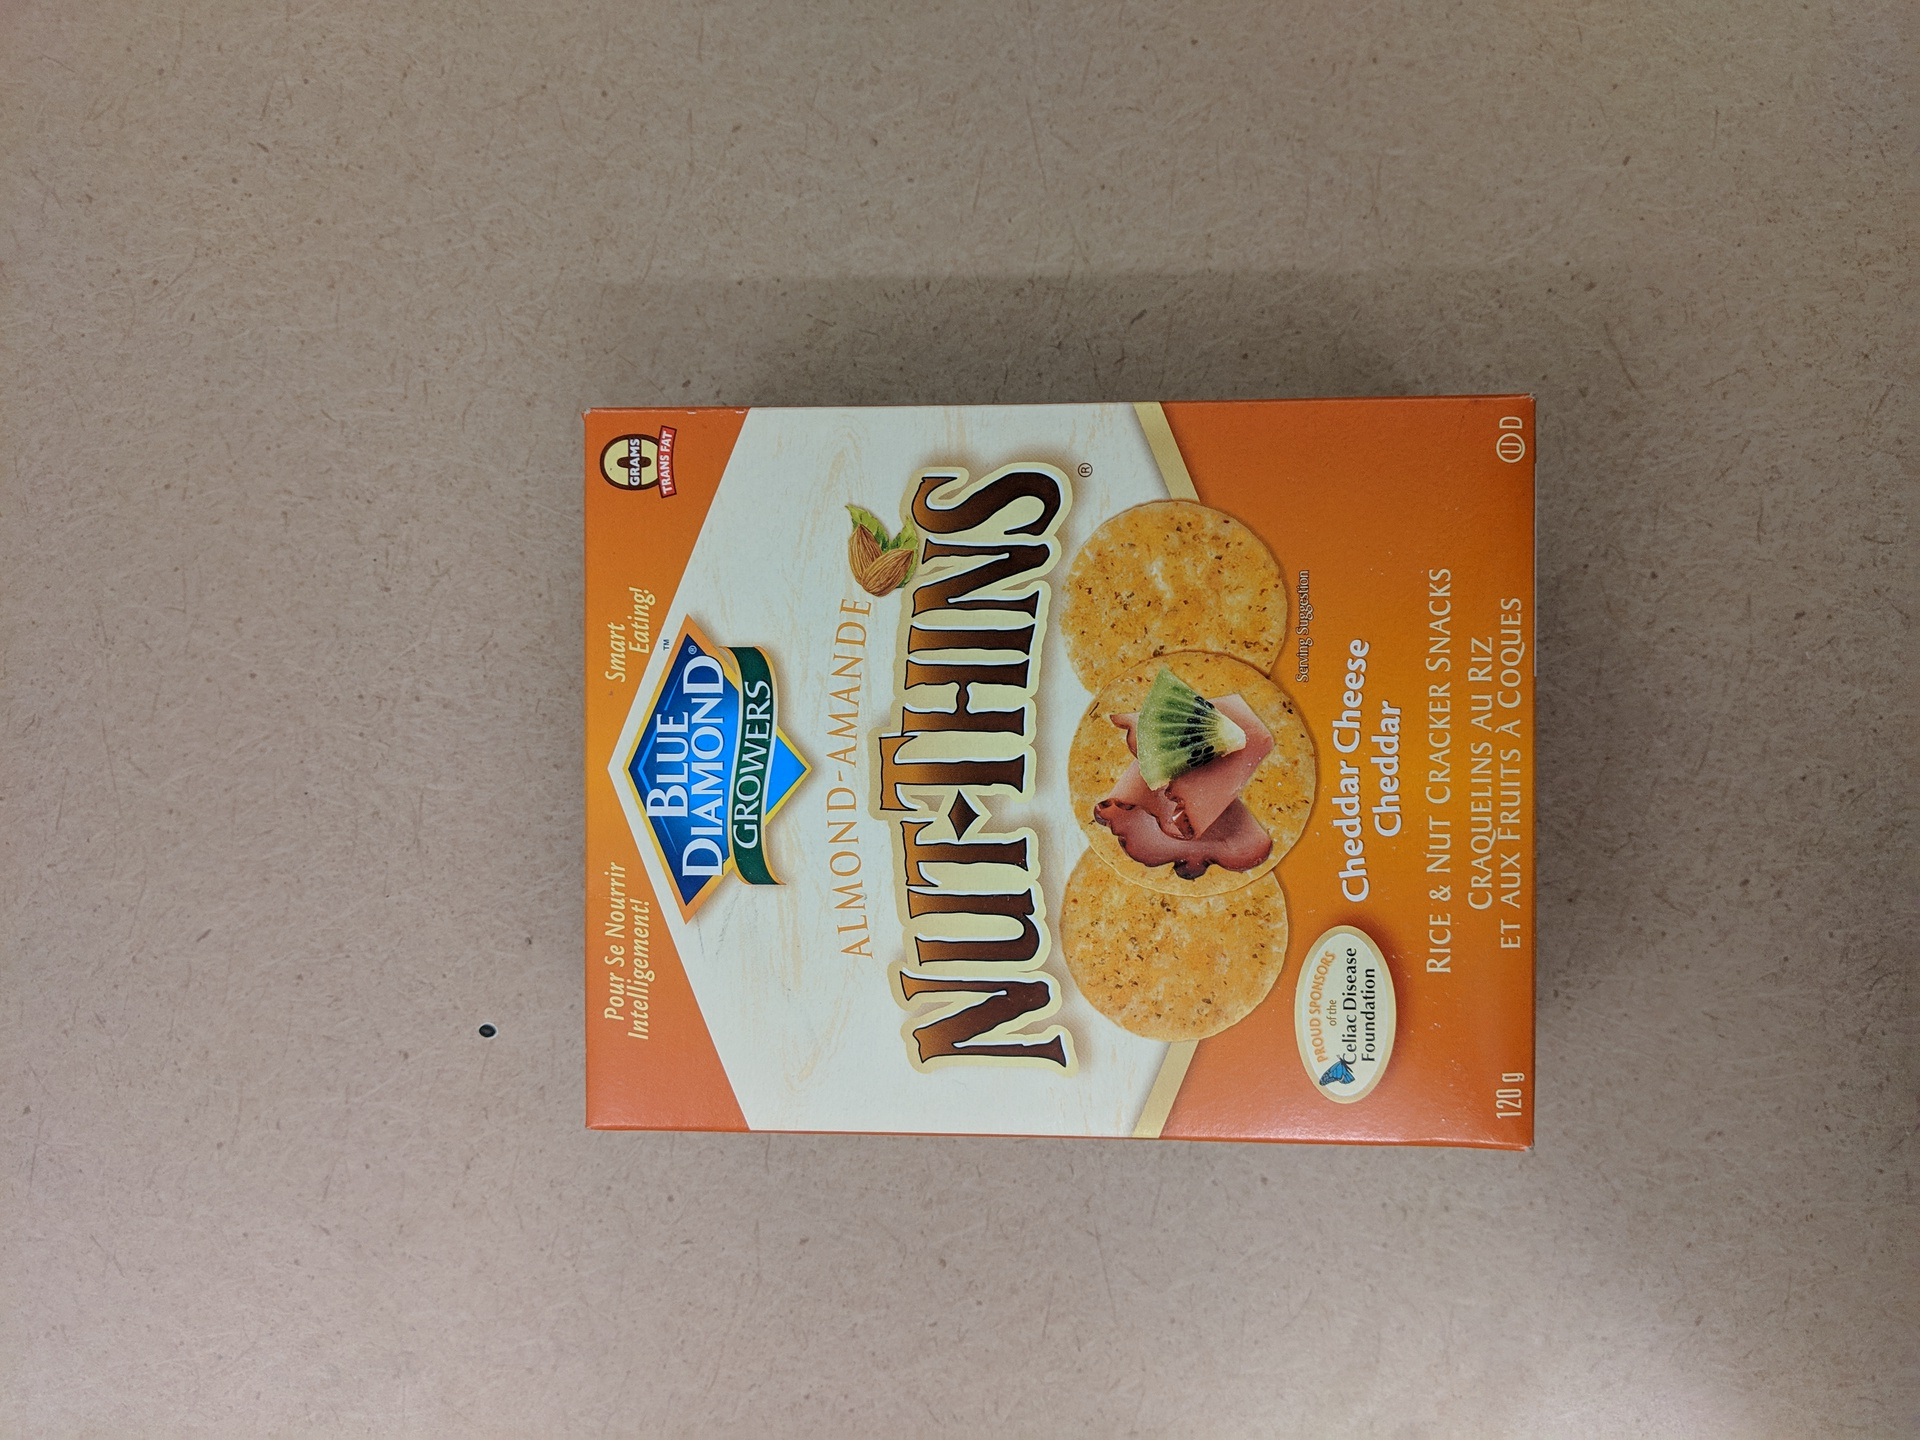blue_diamond_nut_thins_almond_cheddar: (556, 378, 1563, 1180)
